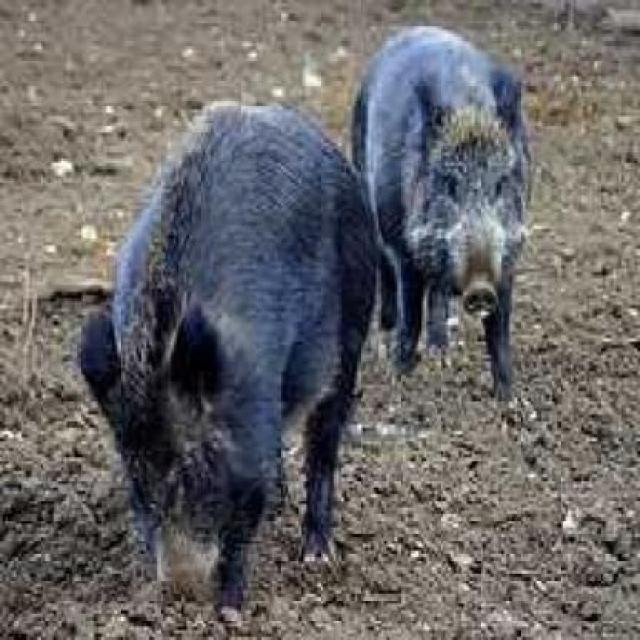pig: (100, 75, 370, 606), (337, 0, 554, 412)
